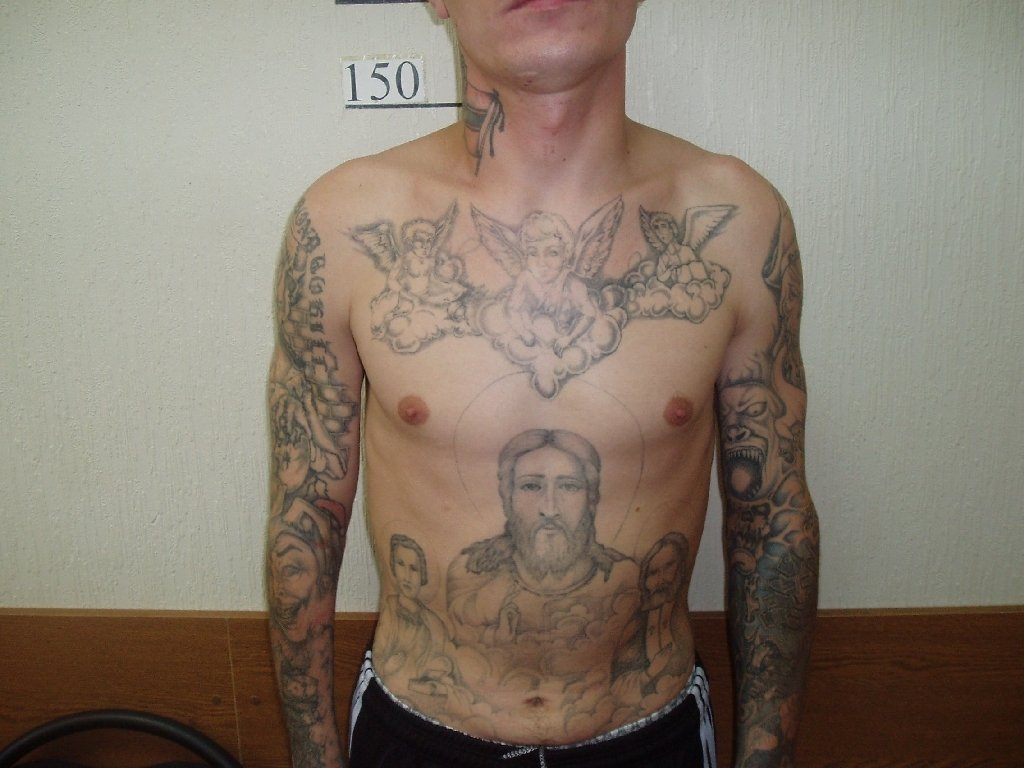tatu1_angel: (341, 198, 755, 370)
